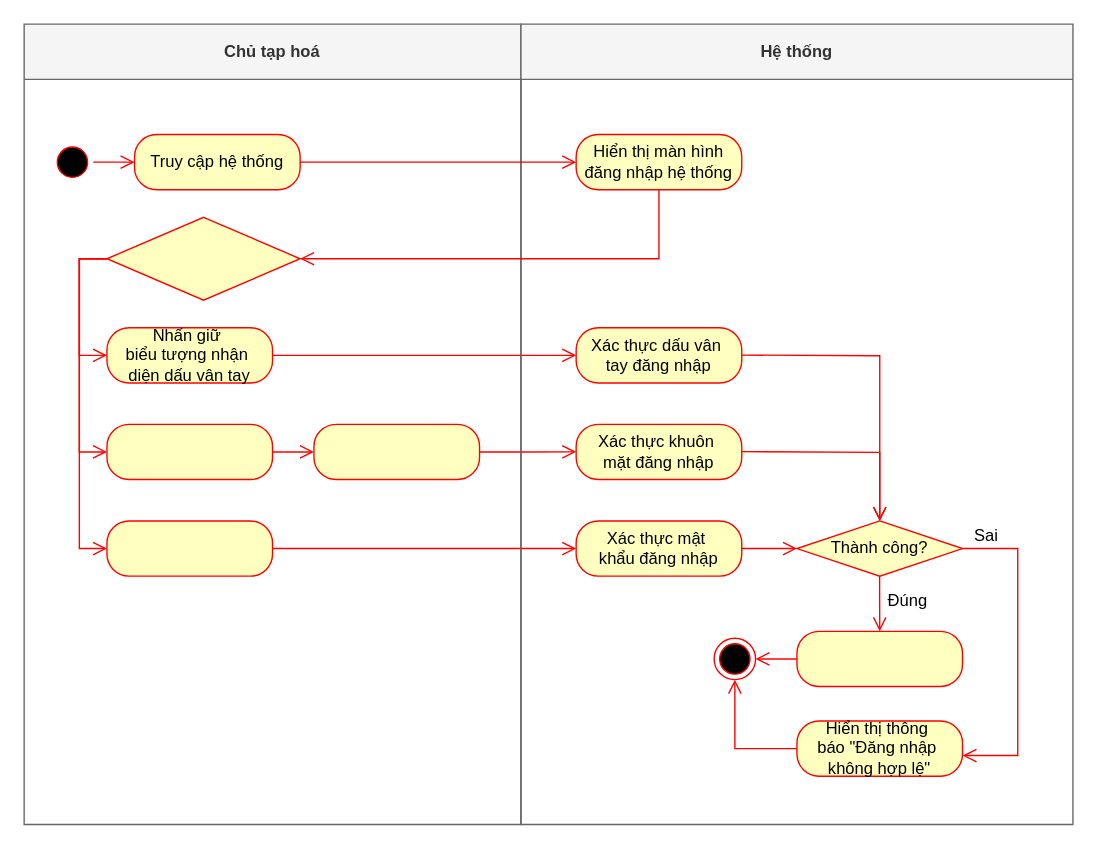
The diagram is 1097 pixels wide and 849 high, and some of its shapes have lost their labels. Each missing label, with the centre of its shape:
"Chọn biểu tượng nhận diện khuôn mặt" goes at pixel 189 451.
"Chọn cách đăng nhập?" goes at pixel 203 258.
"Hiển thị trang chủ của hệ thống" goes at pixel 879 658.
"Nhập mật khẩu" goes at pixel 189 548.
"Quét khuôn mặt" goes at pixel 396 451.
